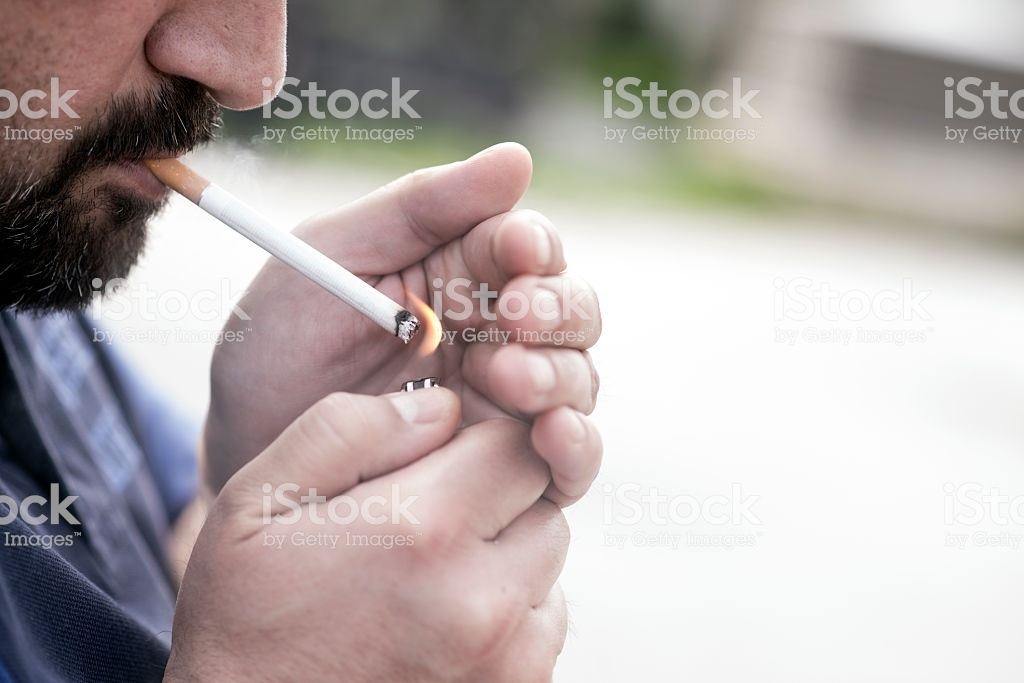sigaretta: (130, 154, 424, 349)
